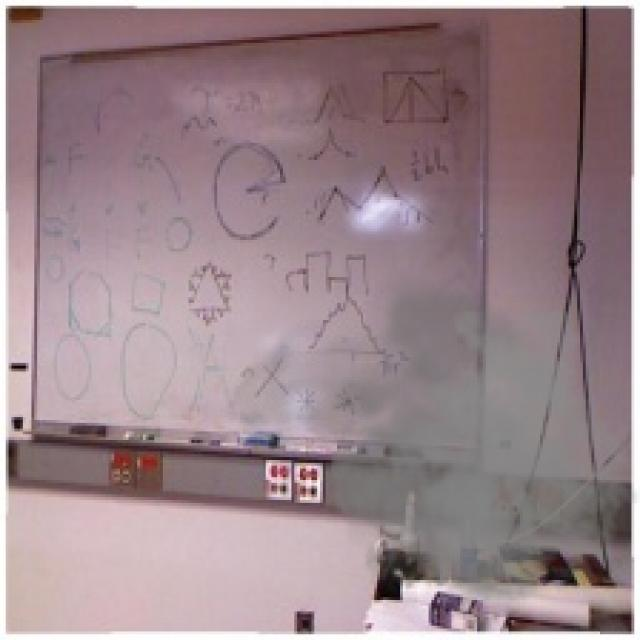smoke: (220, 268, 637, 632)
